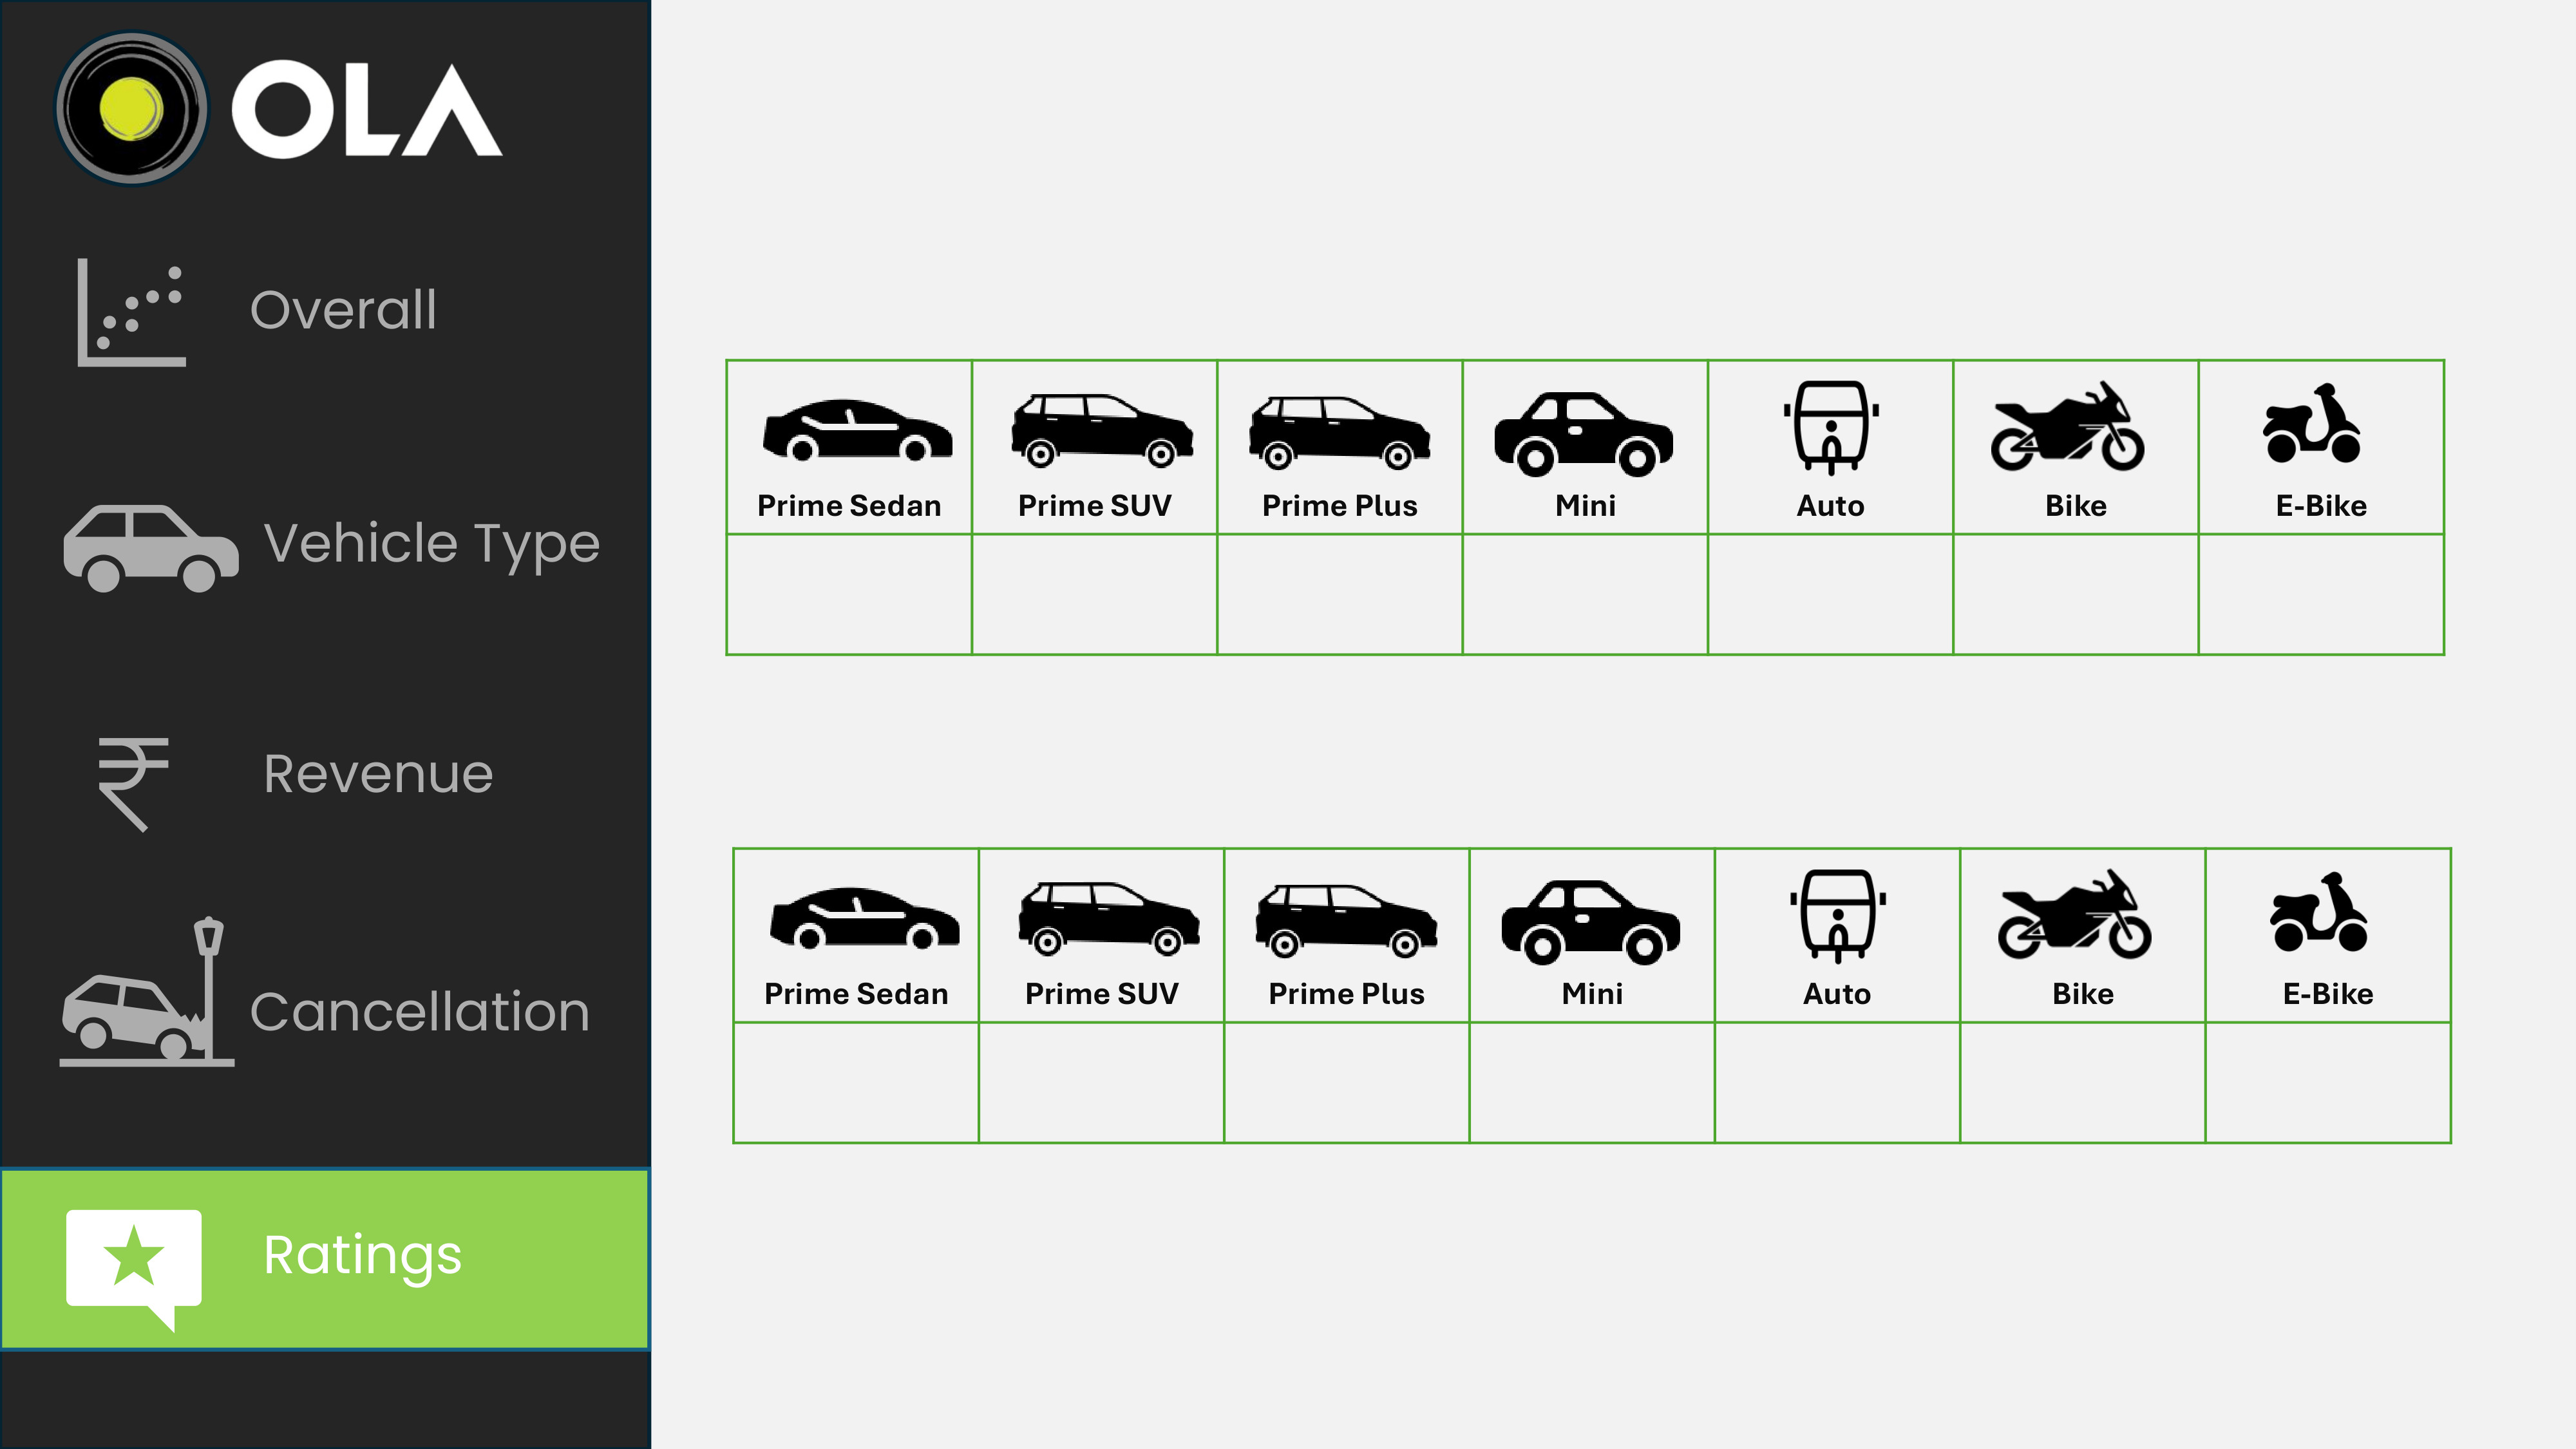

What the dashboard file says about the page in this screenshot:
{"tool":"powerbi","page":{"name":"Rating","canvas":[1280,720],"ordinal":4},"visuals":[{"type":"actionButton","box":[0,220,323.3,88.3],"z":0},{"type":"actionButton","box":[0,111.7,323.3,88.3],"z":1000},{"type":"actionButton","box":[0,336.7,323.3,88.3],"z":2000},{"type":"actionButton","box":[0,446.7,323.3,88.3],"z":3000},{"type":"actionButton","box":[0,578.3,323.3,88.3],"z":4000},{"type":"textbox","box":[360,350,328.3,75],"z":5000},{"type":"textbox","box":[358.3,100,426.7,75],"z":6000},{"type":"cardVisual","fields":{"Data":["Avg(July.Customer_Rating)"]},"box":[480,261.7,126.7,60],"z":7000},{"type":"cardVisual","fields":{"Data":["Avg(July.Customer_Rating)"]},"box":[360,261.7,126.7,60],"z":8000},{"type":"cardVisual","fields":{"Data":["Avg(July.Customer_Rating)"]},"box":[725,261.7,126.7,60],"z":9000},{"type":"cardVisual","fields":{"Data":["Avg(July.Customer_Rating)"]},"box":[605,261.7,126.7,60],"z":10000},{"type":"cardVisual","fields":{"Data":["Avg(July.Customer_Rating)"]},"box":[846.7,261.7,126.7,60],"z":11000},{"type":"cardVisual","fields":{"Data":["Avg(July.Customer_Rating)"]},"box":[1091.7,261.7,126.7,60],"z":12000},{"type":"cardVisual","fields":{"Data":["Avg(July.Customer_Rating)"]},"box":[971.7,261.7,126.7,60],"z":13000},{"type":"cardVisual","fields":{"Data":["Avg(July.Driver_Ratings)"]},"box":[483.3,503.3,126.7,60],"z":14000},{"type":"cardVisual","fields":{"Data":["Avg(July.Driver_Ratings)"]},"box":[363.3,503.3,126.7,60],"z":15000},{"type":"cardVisual","fields":{"Data":["Avg(July.Driver_Ratings)"]},"box":[728.3,503.3,126.7,60],"z":16000},{"type":"cardVisual","fields":{"Data":["Avg(July.Driver_Ratings)"]},"box":[608.3,503.3,126.7,60],"z":17000},{"type":"cardVisual","fields":{"Data":["Avg(July.Driver_Ratings)"]},"box":[850,503.3,126.7,60],"z":18000},{"type":"cardVisual","fields":{"Data":["Avg(July.Driver_Ratings)"]},"box":[1095,503.3,126.7,60],"z":19000},{"type":"cardVisual","fields":{"Data":["Avg(July.Driver_Ratings)"]},"box":[975,503.3,126.7,60],"z":20000},{"type":"slicer","title":"Date","fields":{"Values":["July.Date"]},"box":[975,0,305,11.7],"z":21000}]}

Visuals, with their boxes on the page's 1280x720 design canvas (x1, y1, x2, y2). These are canvas units, not pixel positions in the 2576x1449 screenshot, which may show the page scaled, cropped or inside an application window:
actionButton: locate(0, 220, 323, 308)
actionButton: locate(0, 112, 323, 200)
actionButton: locate(0, 337, 323, 425)
actionButton: locate(0, 447, 323, 535)
actionButton: locate(0, 578, 323, 667)
textbox: locate(360, 350, 688, 425)
textbox: locate(358, 100, 785, 175)
cardVisual - Avg(July.Customer_Rating): locate(480, 262, 607, 322)
cardVisual - Avg(July.Customer_Rating): locate(360, 262, 487, 322)
cardVisual - Avg(July.Customer_Rating): locate(725, 262, 852, 322)
cardVisual - Avg(July.Customer_Rating): locate(605, 262, 732, 322)
cardVisual - Avg(July.Customer_Rating): locate(847, 262, 973, 322)
cardVisual - Avg(July.Customer_Rating): locate(1092, 262, 1218, 322)
cardVisual - Avg(July.Customer_Rating): locate(972, 262, 1098, 322)
cardVisual - Avg(July.Driver_Ratings): locate(483, 503, 610, 563)
cardVisual - Avg(July.Driver_Ratings): locate(363, 503, 490, 563)
cardVisual - Avg(July.Driver_Ratings): locate(728, 503, 855, 563)
cardVisual - Avg(July.Driver_Ratings): locate(608, 503, 735, 563)
cardVisual - Avg(July.Driver_Ratings): locate(850, 503, 977, 563)
cardVisual - Avg(July.Driver_Ratings): locate(1095, 503, 1222, 563)
cardVisual - Avg(July.Driver_Ratings): locate(975, 503, 1102, 563)
"Date" slicer: locate(975, 0, 1280, 12)
